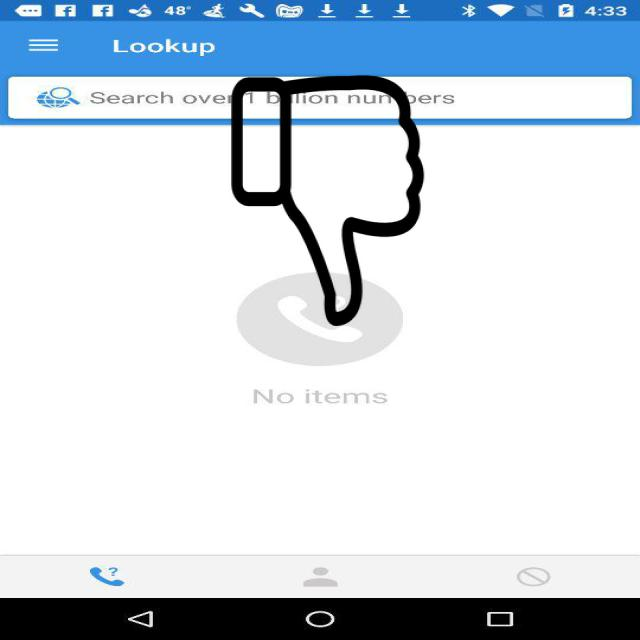obstruction: (228, 75, 426, 326)
